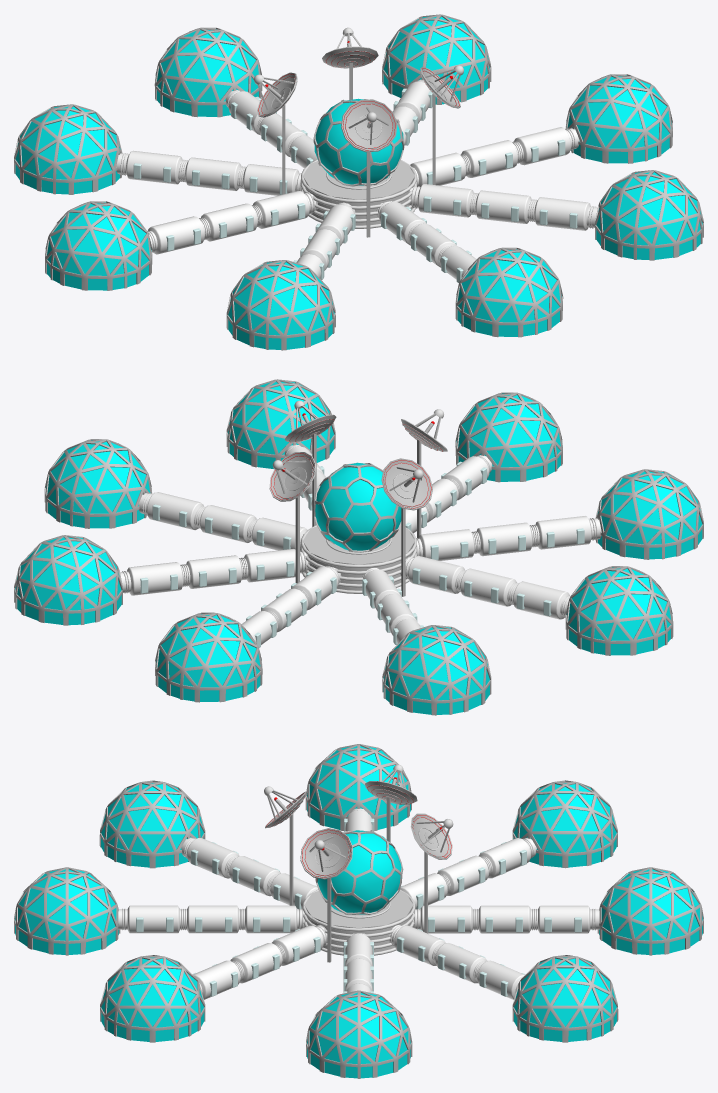
The model's file is buildings3.fbx.
3 renders of one model, top to bottom at view 1: azimuth 30°, elevation 25°; view 2: azimuth 150°, elevation 25°; view 3: azimuth 270°, elevation 25°, orthographic. The views are drawn at different scales.
Parts seen in each view (by area): view 1: polySurface344; view 2: polySurface344; view 3: polySurface344.
Part boxes in pixels (x1,y1,x2,y2): polySurface344: [14, 14, 703, 350]; polySurface344: [14, 379, 703, 715]; polySurface344: [14, 744, 703, 1078].
Size of the model in its own units: 108 by 22.63 by 108.
